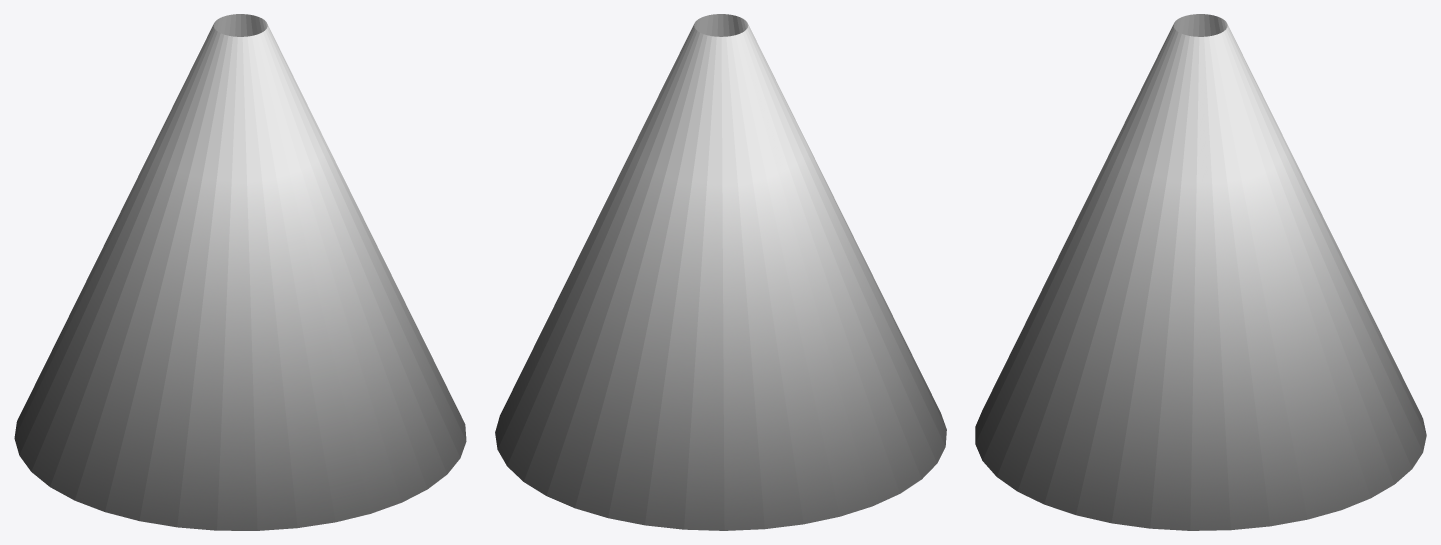
The model's file is lightConePSX.fbx.
3 renders of one model, left to right at view 1: azimuth 30°, elevation 25°; view 2: azimuth 150°, elevation 25°; view 3: azimuth 270°, elevation 25°, orthographic.
Parts seen in each view (by area): view 1: Light, InnerLight; view 2: Light, InnerLight; view 3: Light, InnerLight.
Boxes of the visible parts, left/top/right/bottom form: Light: left=14, top=24, right=466, bottom=530; InnerLight: left=213, top=14, right=267, bottom=36; Light: left=495, top=24, right=946, bottom=530; InnerLight: left=694, top=14, right=748, bottom=36; Light: left=975, top=24, right=1426, bottom=530; InnerLight: left=1173, top=14, right=1227, bottom=36.
Size of the model in its own units: 200 by 200 by 200.
1 material, 1 textured.
